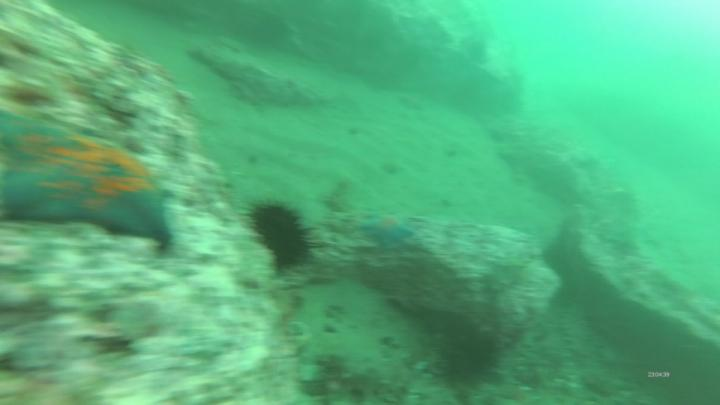echinus: (253, 204, 312, 266), (438, 328, 495, 381)
starfish: (3, 107, 173, 249), (359, 213, 414, 246)
